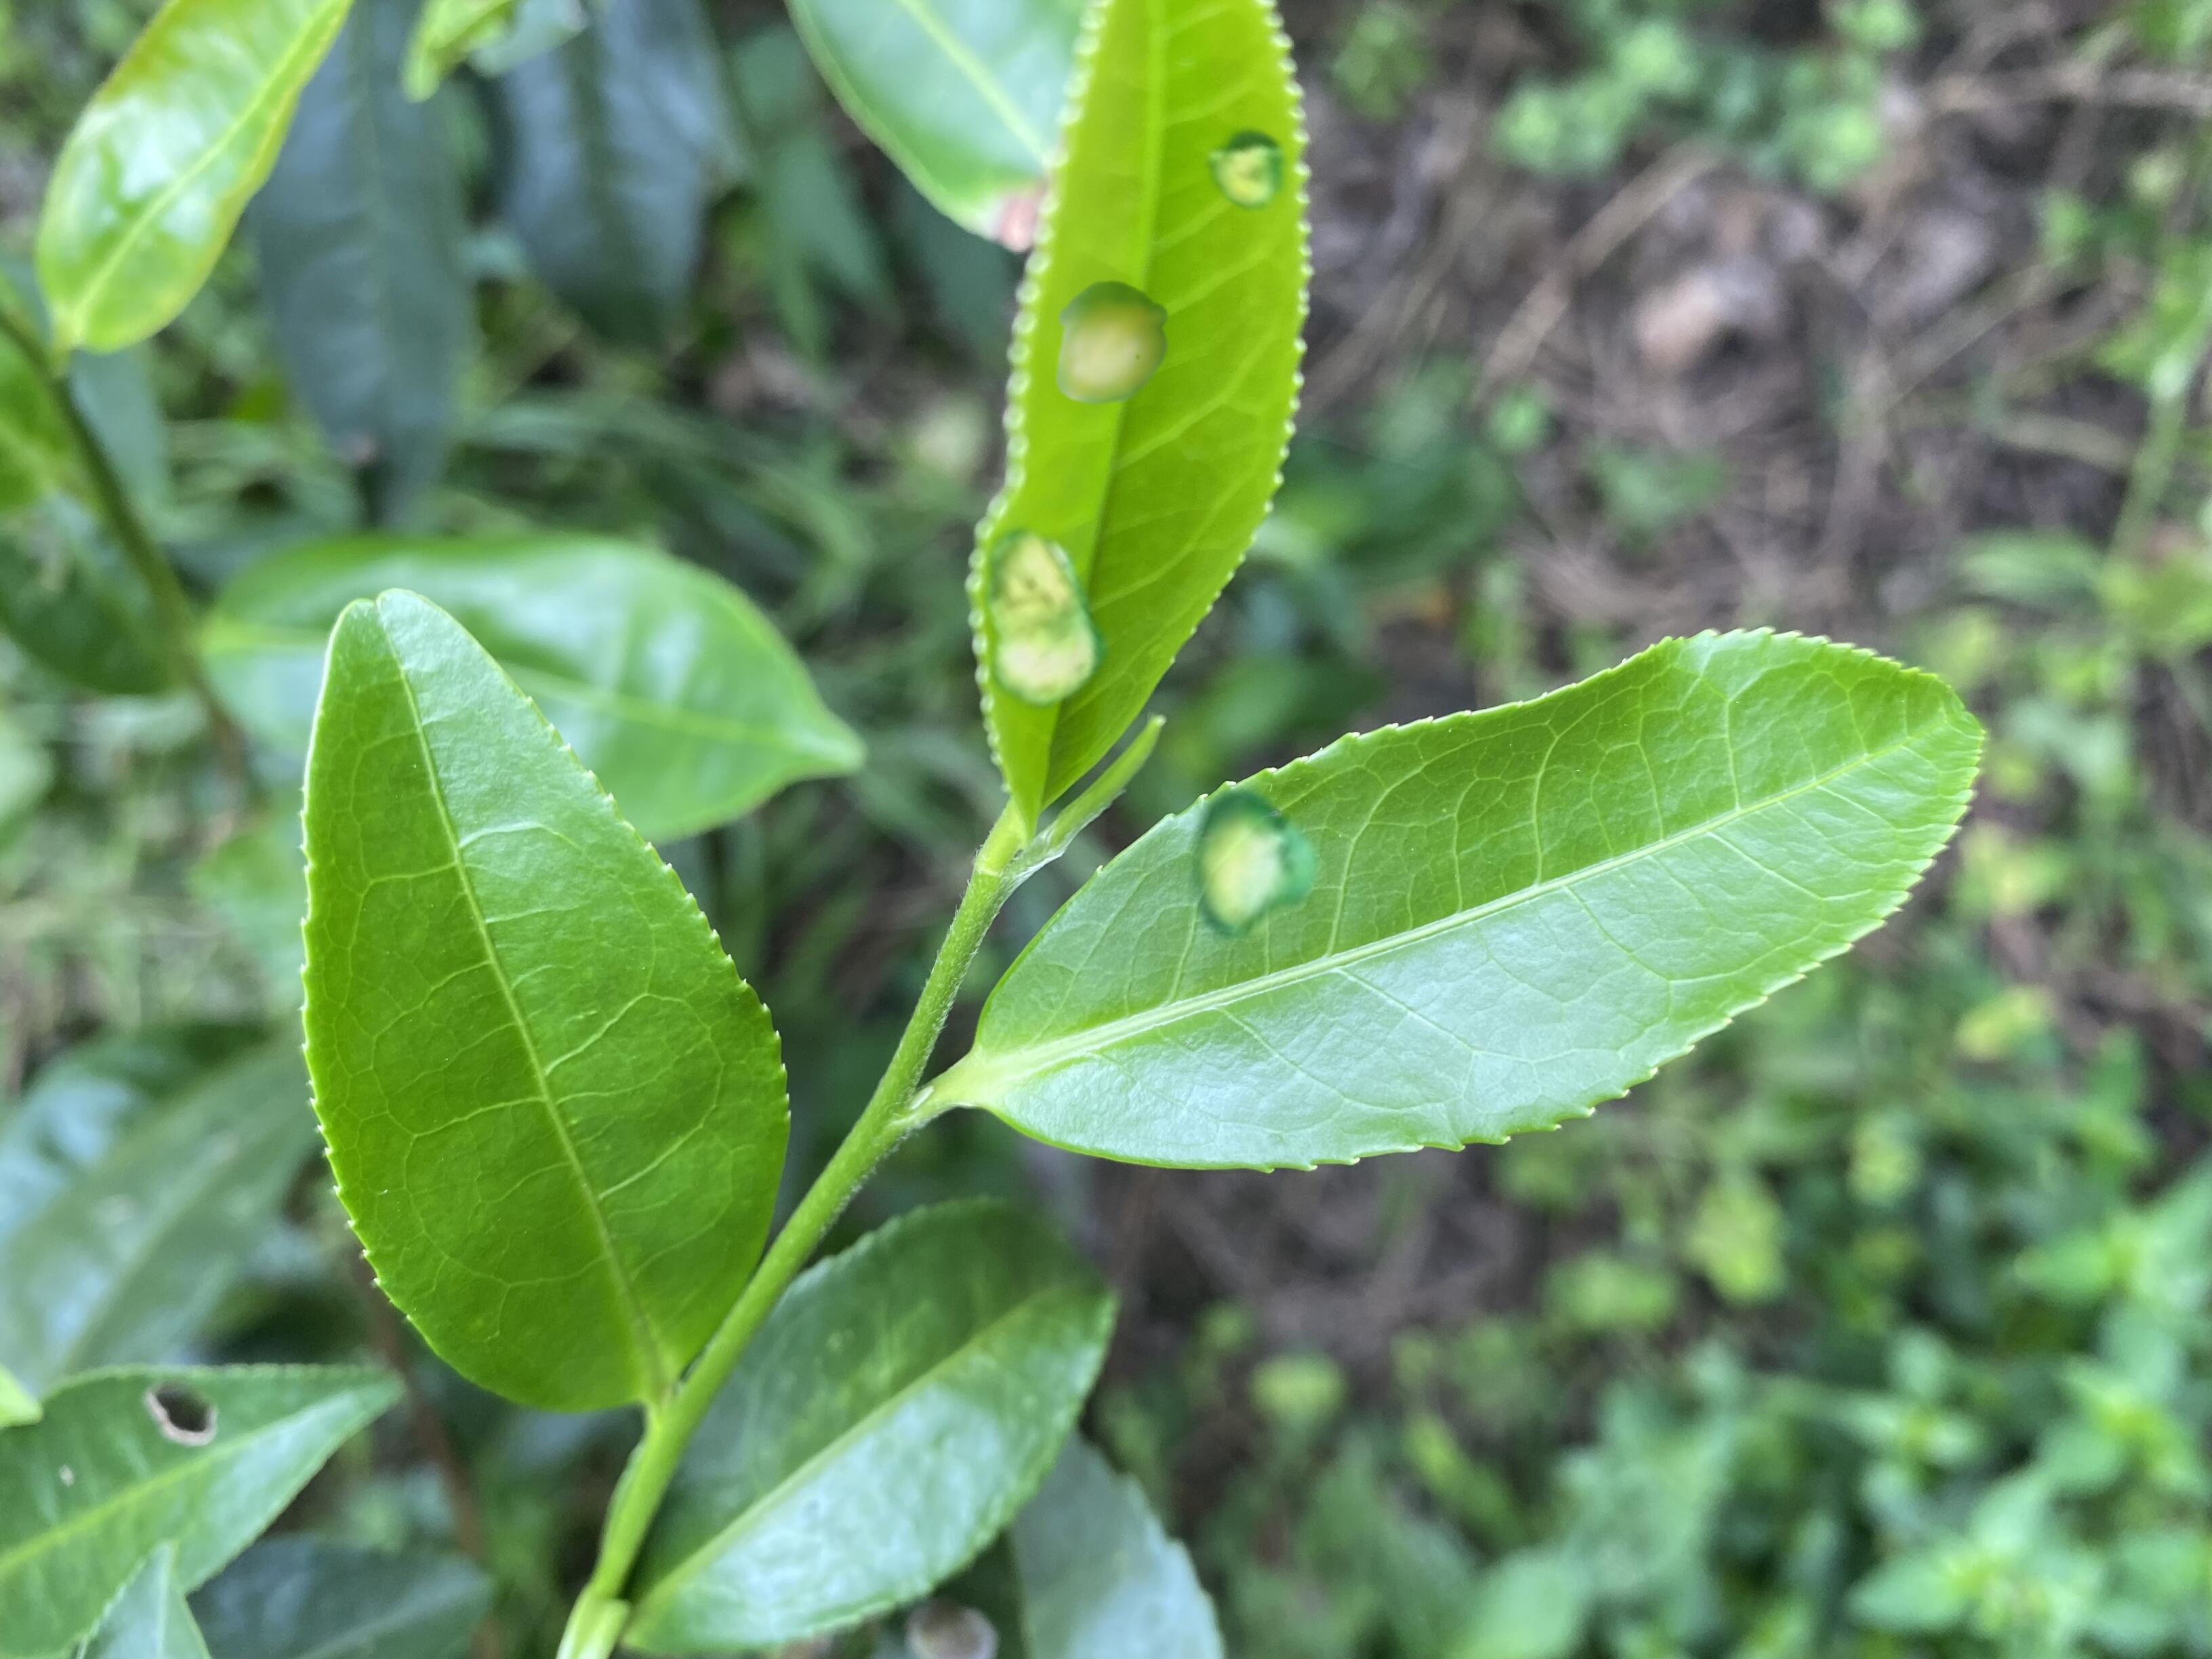chabing_high: (967, 2, 1317, 826)
chabing_low: (979, 622, 1989, 1180)
chihuo_low: (0, 1361, 408, 1656)
healthy: (294, 587, 796, 1420)
